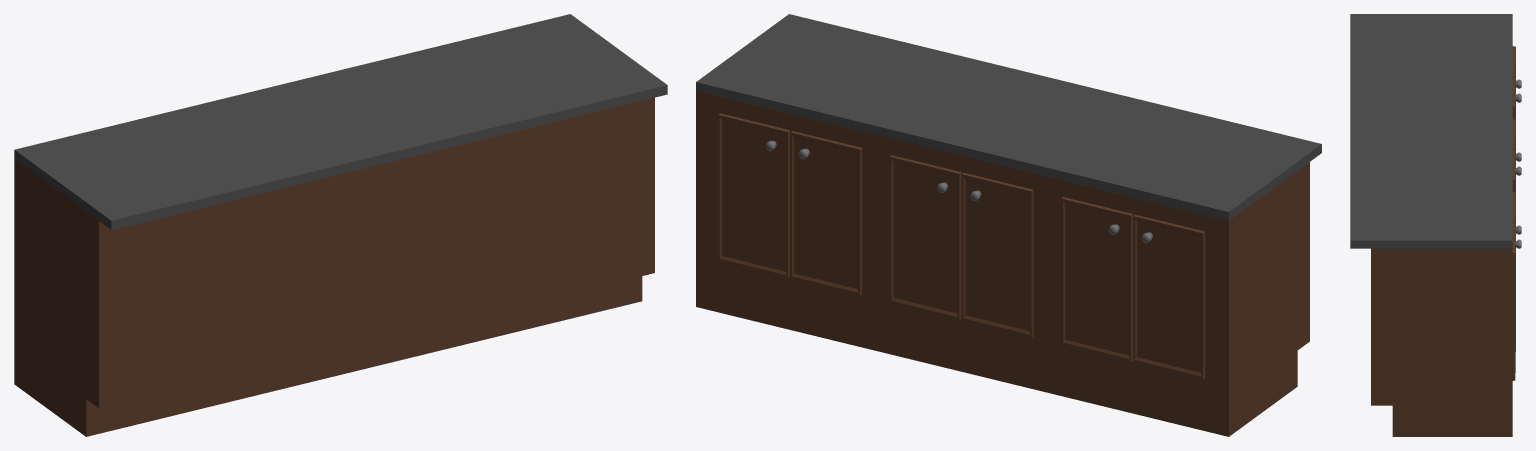
The model's file is barCounter.fbx.
3 views of the same model, side by side, from view 1: azimuth 30°, elevation 25°; view 2: azimuth 150°, elevation 25°; view 3: azimuth 270°, elevation 25° (orthographic). The views are drawn at different scales.
Parts seen in each view (by area): view 1: Bar Counter; view 2: Bar Counter; view 3: Bar Counter.
Boxes of the visible parts, x1=… form: Bar Counter: x1=14, y1=14, x2=667, y2=436; Bar Counter: x1=696, y1=14, x2=1321, y2=436; Bar Counter: x1=1350, y1=14, x2=1521, y2=436.
Bounding box in the file's own units: 233 × 74.41 × 93.96.
